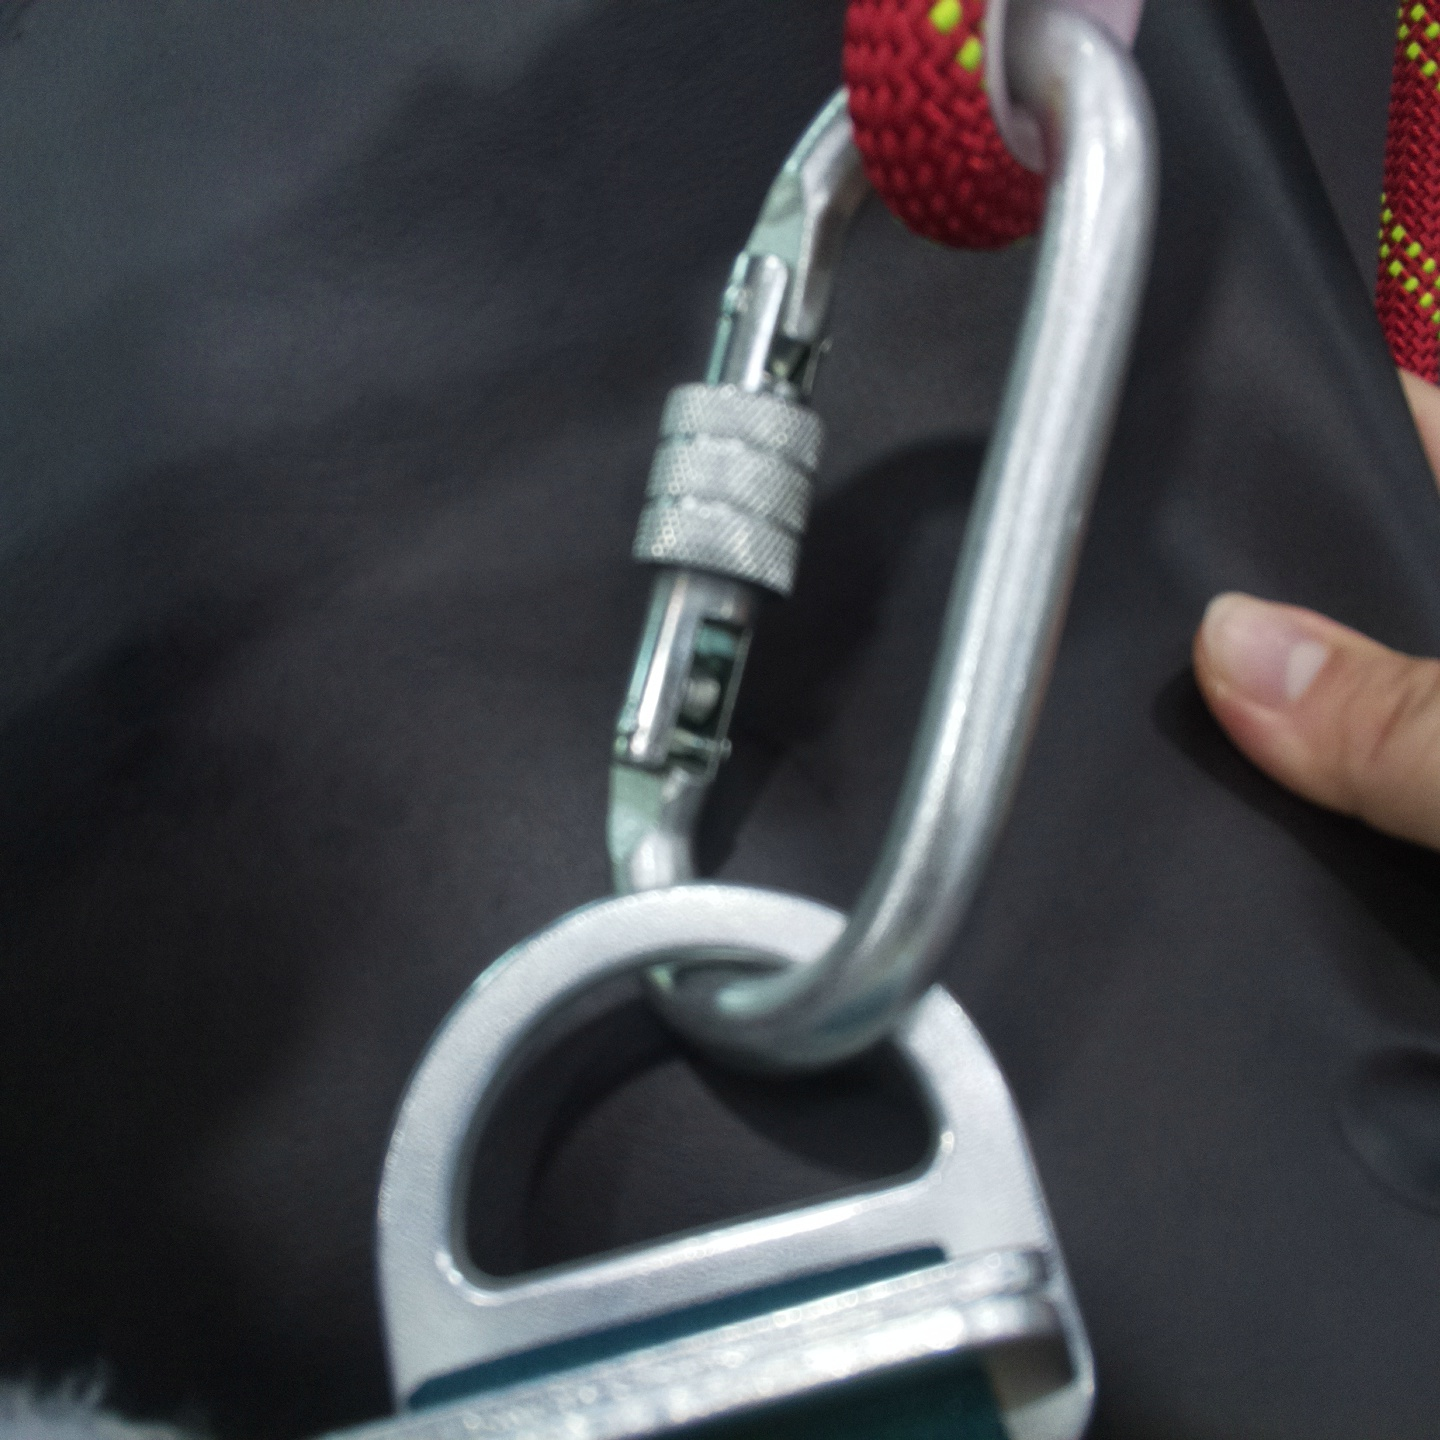SUCCESS: (353, 349, 1112, 1394)
